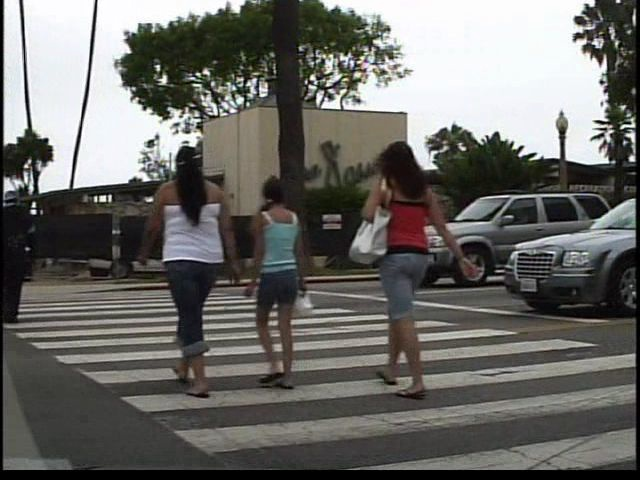person: (367, 129, 474, 397), (135, 137, 232, 405), (248, 171, 322, 396)
